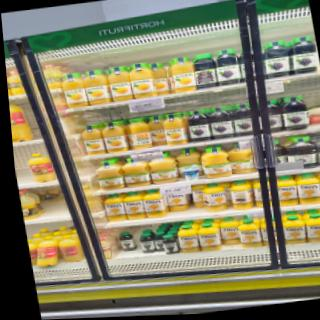Juice: (258, 36, 297, 81), (287, 34, 320, 77), (190, 50, 224, 91), (278, 93, 312, 133), (205, 104, 240, 141), (105, 63, 137, 103), (144, 152, 179, 187), (60, 71, 90, 110), (147, 59, 176, 97), (92, 160, 122, 193), (185, 108, 212, 144), (145, 113, 172, 148), (125, 117, 152, 151)
